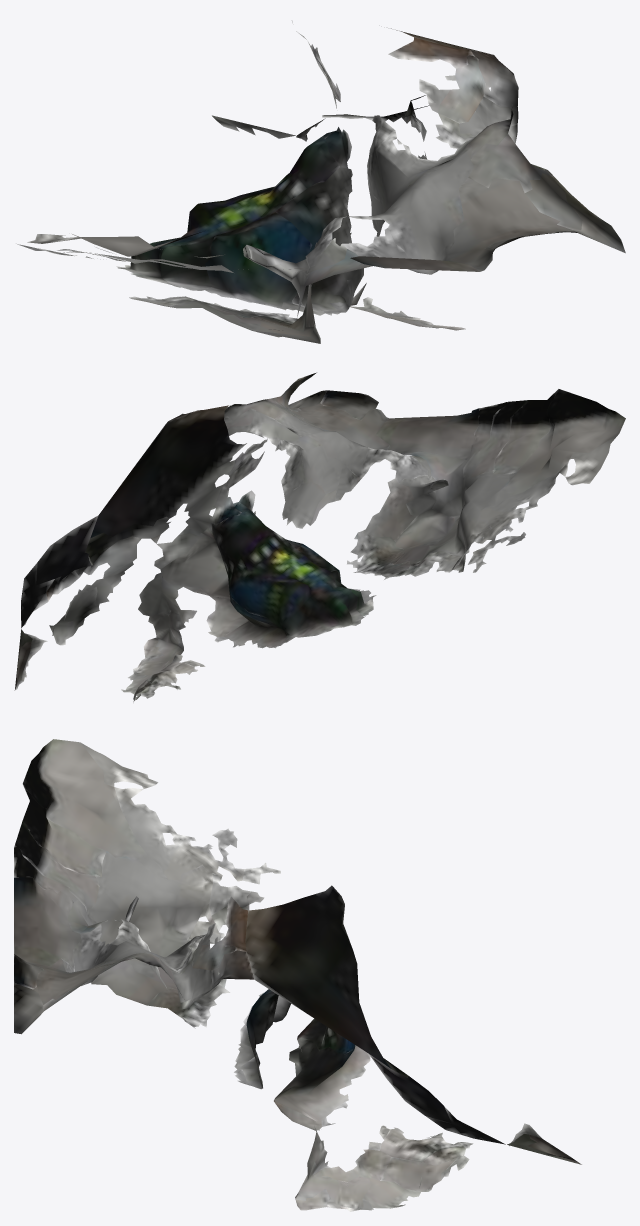
Rendered from hall.glb.
3 renders of one model, top to bottom at view 1: azimuth 30°, elevation 25°; view 2: azimuth 150°, elevation 25°; view 3: azimuth 270°, elevation 25°, orthographic. The views are drawn at different scales.
Bounding box in the file's own units: 1.36 × 0.7346 × 1.47.
1 material, 1 textured.
